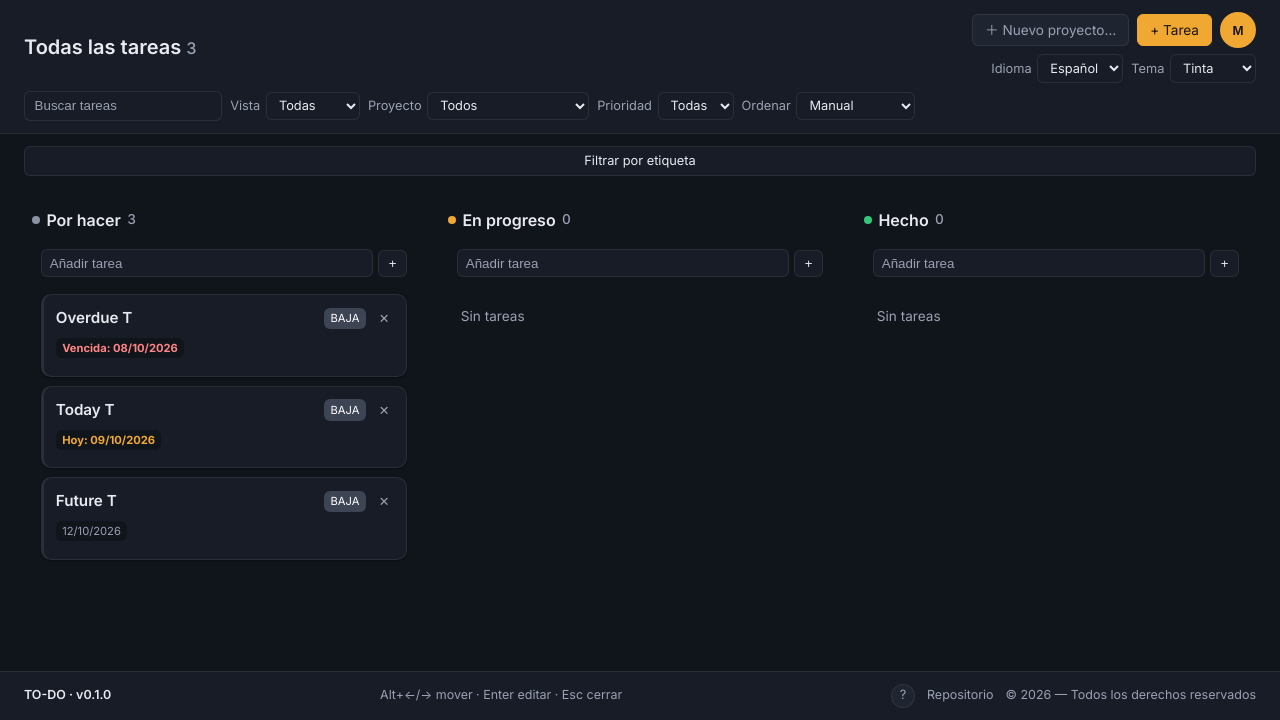
Test case: TodoListPage Kanban (through the repository seam) › narrows the board with the view selector
The width and height of the screenshot is (1280, 720).
Expected: the text "Today T" is shown, [56,400,115,419]
Select "Vencidas" in the dropdown labelled "Vista". click: (313, 106)
box: [266,92,360,120]
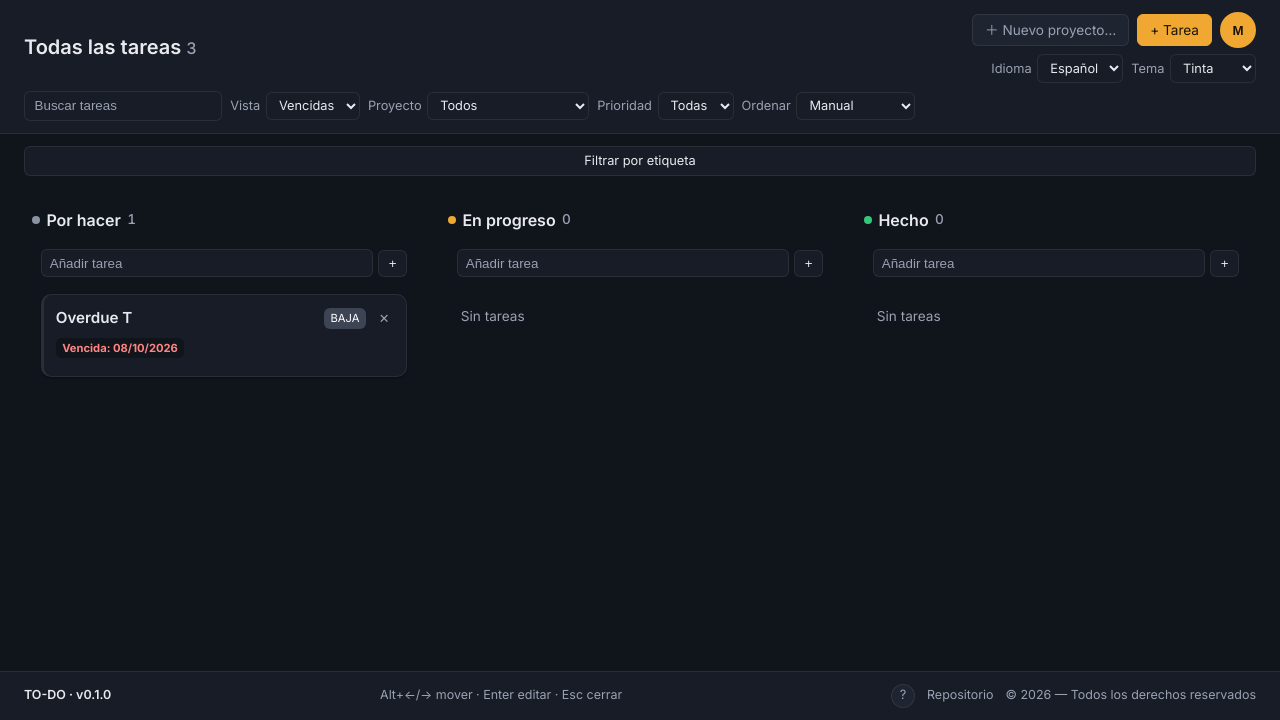
Expected: the text "Overdue T" is shown, [56,308,132,327]
Expected: the button "Today T" is gone
Expected: the button "Future T" is gone
